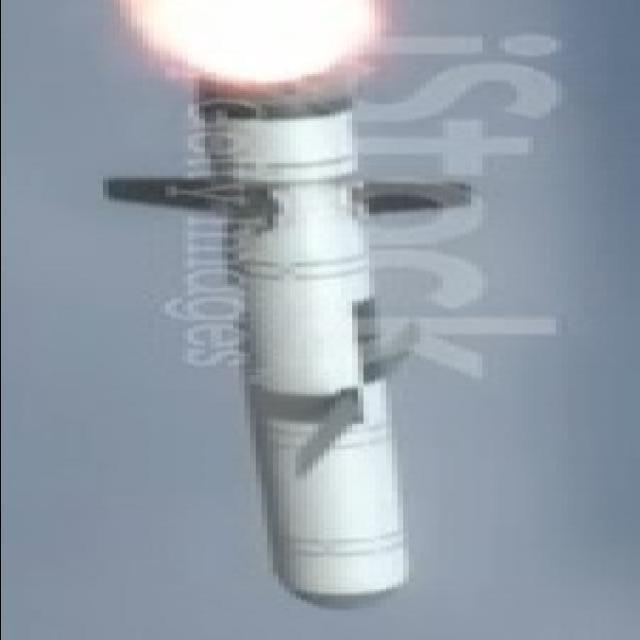Missile: (160, 41, 420, 615)
